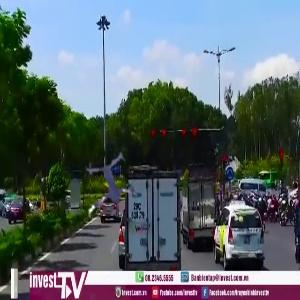drone: (77, 153, 154, 230)
